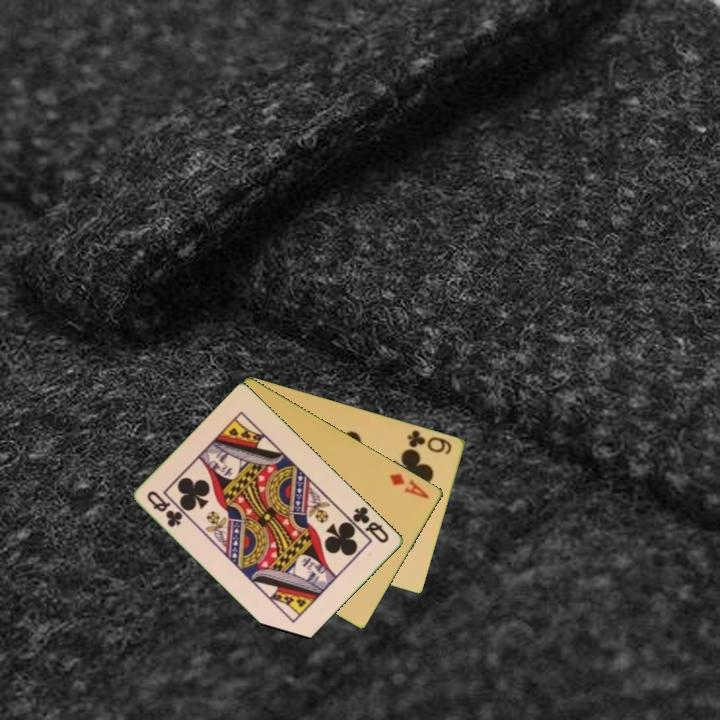6c: (404, 426, 455, 457)
Ad: (386, 470, 432, 501)
Qc: (344, 503, 392, 546), (144, 487, 186, 530)
